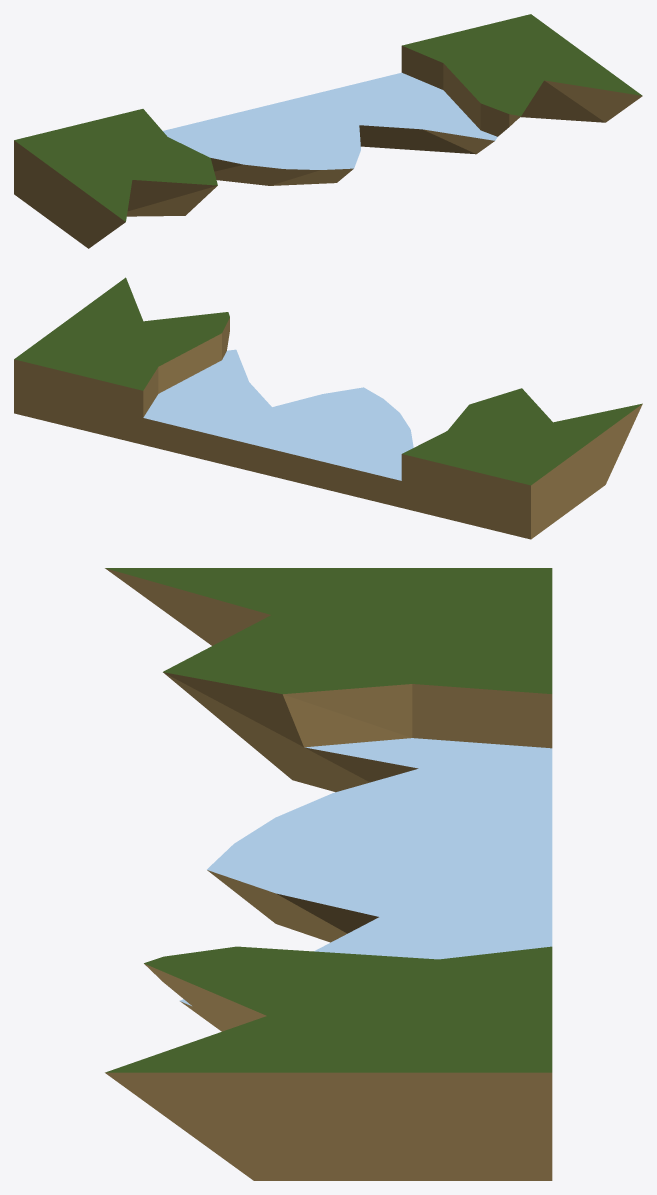
Rendered from Terrain_Modular_Tiles_Grass_Dirt_Cliff_Edge_River_Outer_02.fbx.
The picture shows the model from 3 angles, top to bottom: view 1: azimuth 30°, elevation 25°; view 2: azimuth 150°, elevation 25°; view 3: azimuth 270°, elevation 25°; orthographic projection. The views are drawn at different scales.
Parts seen in each view (by area): view 1: Terrain_Modular_Tiles_Grass_Dirt_Cliff_Edge_River_Outer_02; view 2: Terrain_Modular_Tiles_Grass_Dirt_Cliff_Edge_River_Outer_02; view 3: Terrain_Modular_Tiles_Grass_Dirt_Cliff_Edge_River_Outer_02.
Boxes of the visible parts, <box> form: Terrain_Modular_Tiles_Grass_Dirt_Cliff_Edge_River_Outer_02: <box>14,14,642,248</box>; Terrain_Modular_Tiles_Grass_Dirt_Cliff_Edge_River_Outer_02: <box>14,277,642,539</box>; Terrain_Modular_Tiles_Grass_Dirt_Cliff_Edge_River_Outer_02: <box>105,568,552,1180</box>.
Size of the model in its own units: 118 by 11.81 by 44.29.
